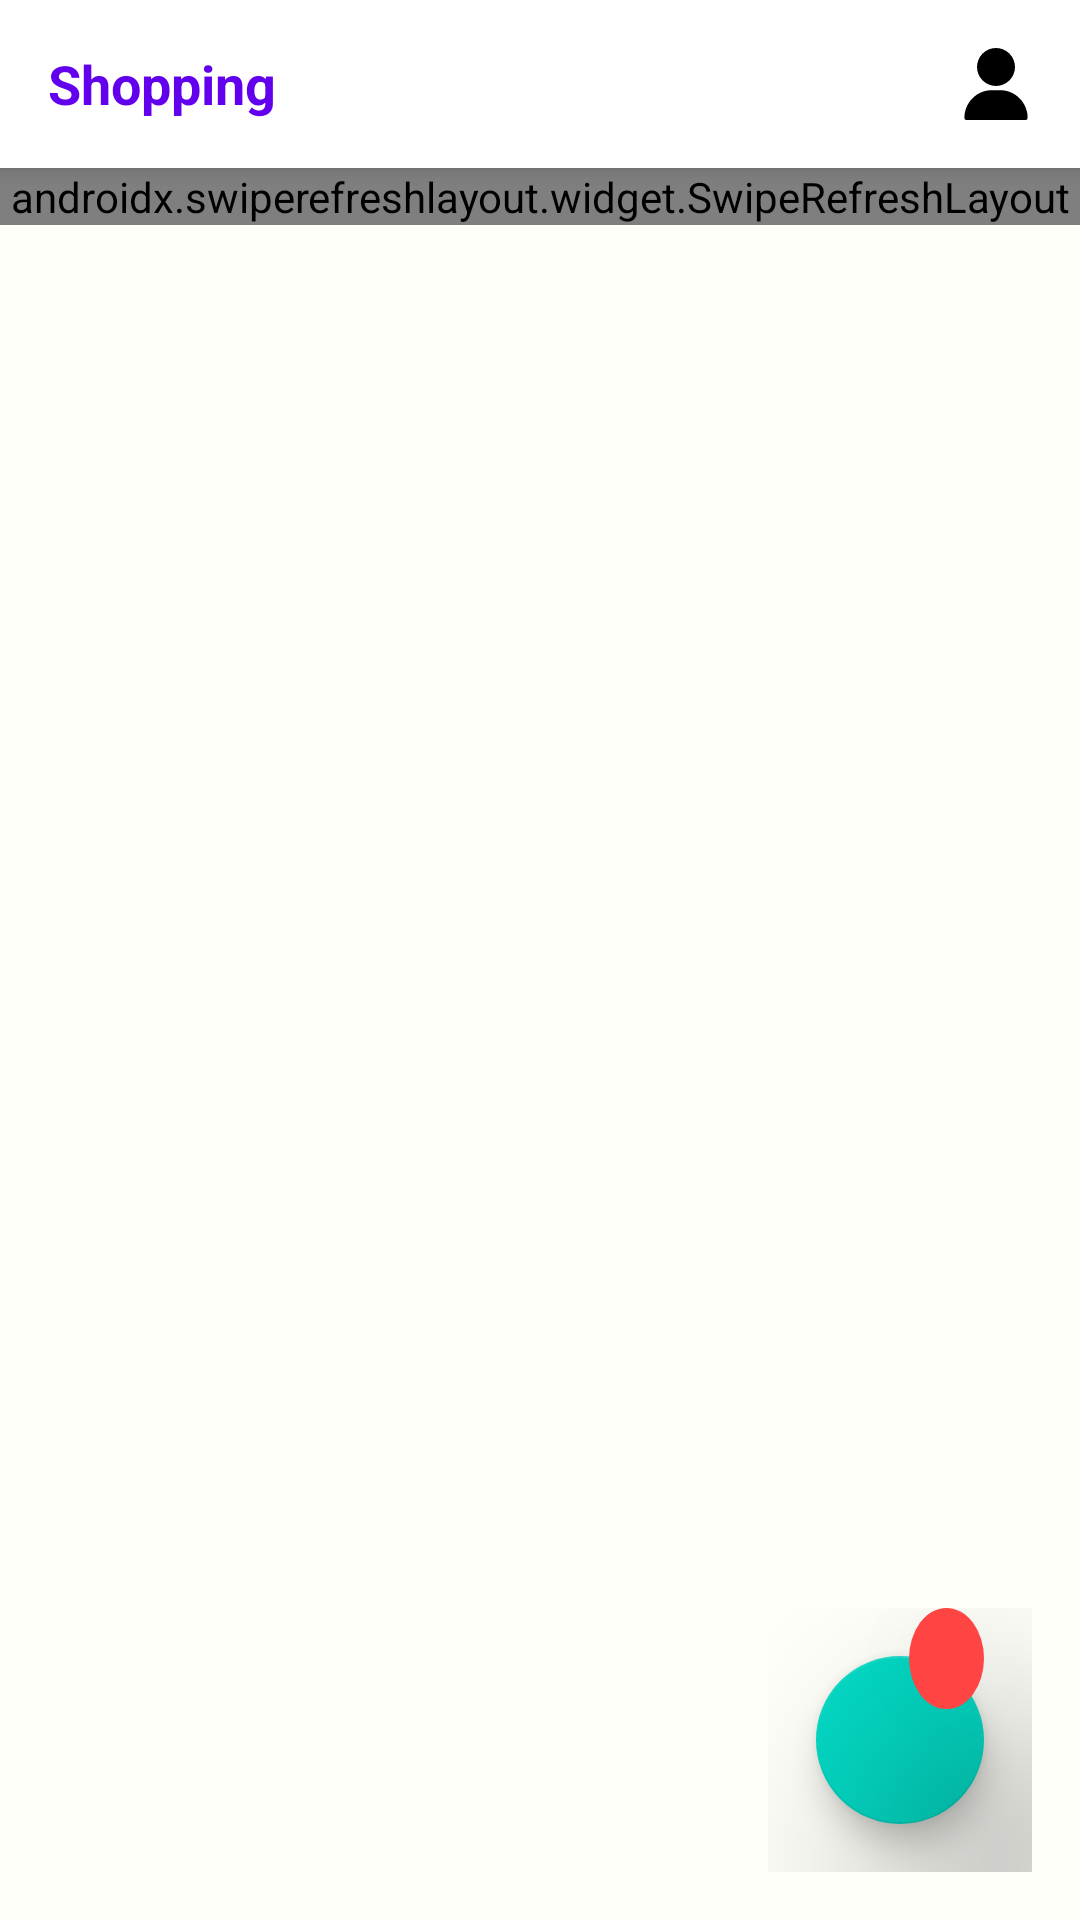

Icons on this 1080px×1920px Android screen, each with the point to tap as (x=x, y=y):
user: (x=996, y=84)
